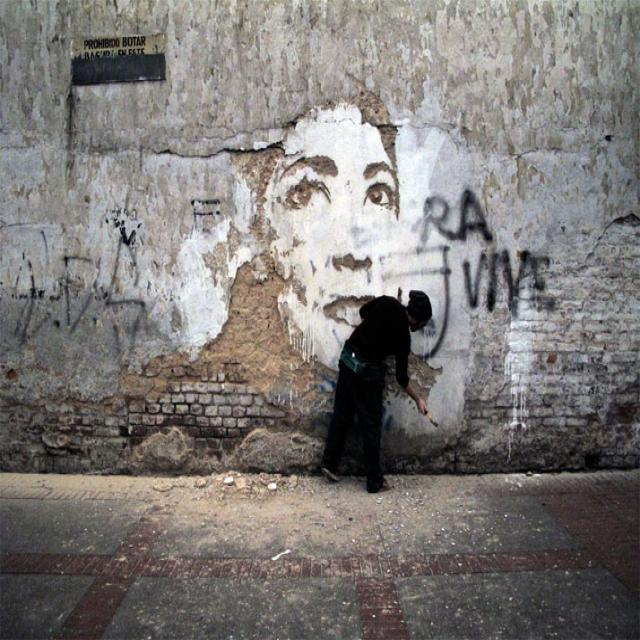-: (159, 82, 394, 370), (14, 218, 146, 372), (416, 187, 560, 323)
